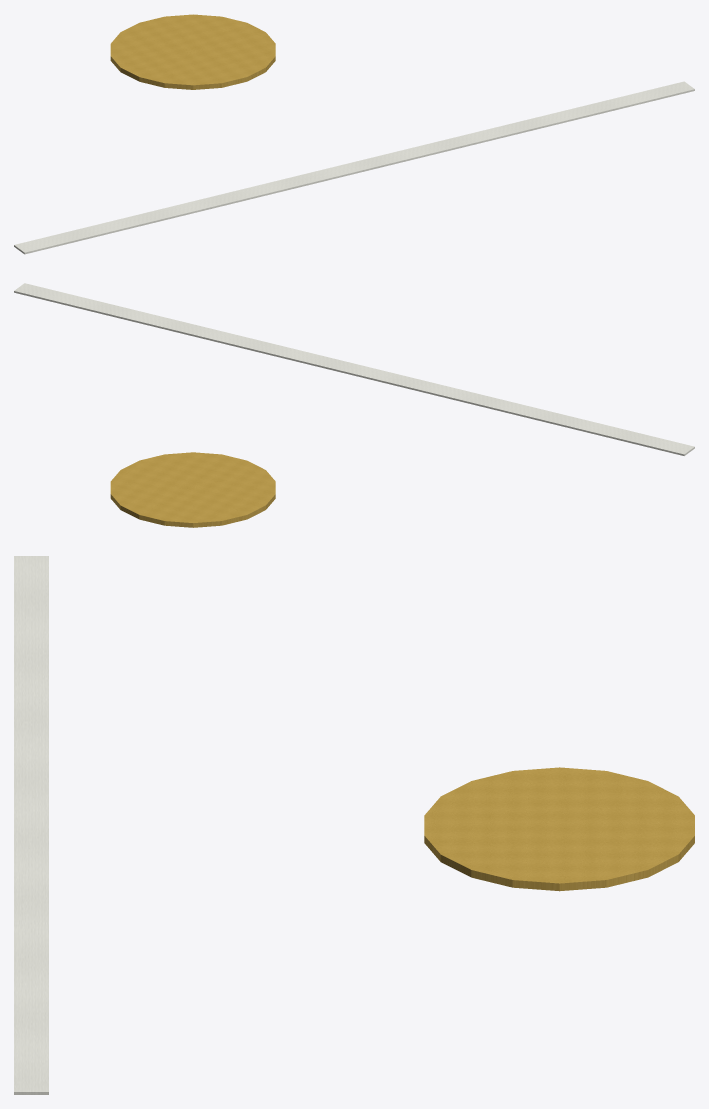
File: 270_L117_TestpointBank3.obj
3 renders of one model, top to bottom at view 1: azimuth 30°, elevation 25°; view 2: azimuth 150°, elevation 25°; view 3: azimuth 270°, elevation 25°, orthographic. The views are drawn at different scales.
Visible parts, largest first — view 1: 000_Gold_ENIG__PSMAT__Gold_ENIG, 001_Silkscreen_White__PSMAT__Silkscreen_White; view 2: 000_Gold_ENIG__PSMAT__Gold_ENIG, 001_Silkscreen_White__PSMAT__Silkscreen_White; view 3: 000_Gold_ENIG__PSMAT__Gold_ENIG, 001_Silkscreen_White__PSMAT__Silkscreen_White.
Boxes of the visible parts, x1,y1,x2,y2 form: 000_Gold_ENIG__PSMAT__Gold_ENIG: (110,14,275,89); 001_Silkscreen_White__PSMAT__Silkscreen_White: (14,81,694,254); 000_Gold_ENIG__PSMAT__Gold_ENIG: (110,452,275,527); 001_Silkscreen_White__PSMAT__Silkscreen_White: (14,283,694,455); 000_Gold_ENIG__PSMAT__Gold_ENIG: (424,767,694,891); 001_Silkscreen_White__PSMAT__Silkscreen_White: (14,556,48,1094).
Size of the model in its own units: 0.012 by 9.5e-05 by 0.00645.
Materials: 2 (2 with a texture image).
